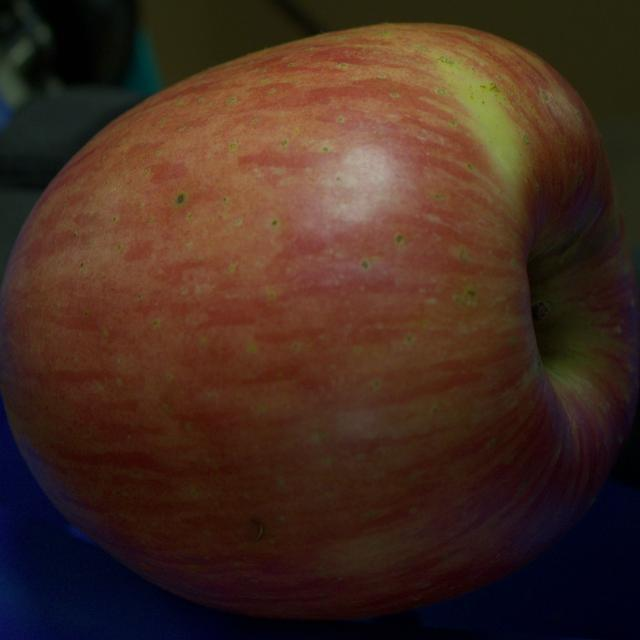apple: (0, 24, 639, 616)
pest: (177, 194, 184, 202)
scratch: (251, 519, 263, 541)
